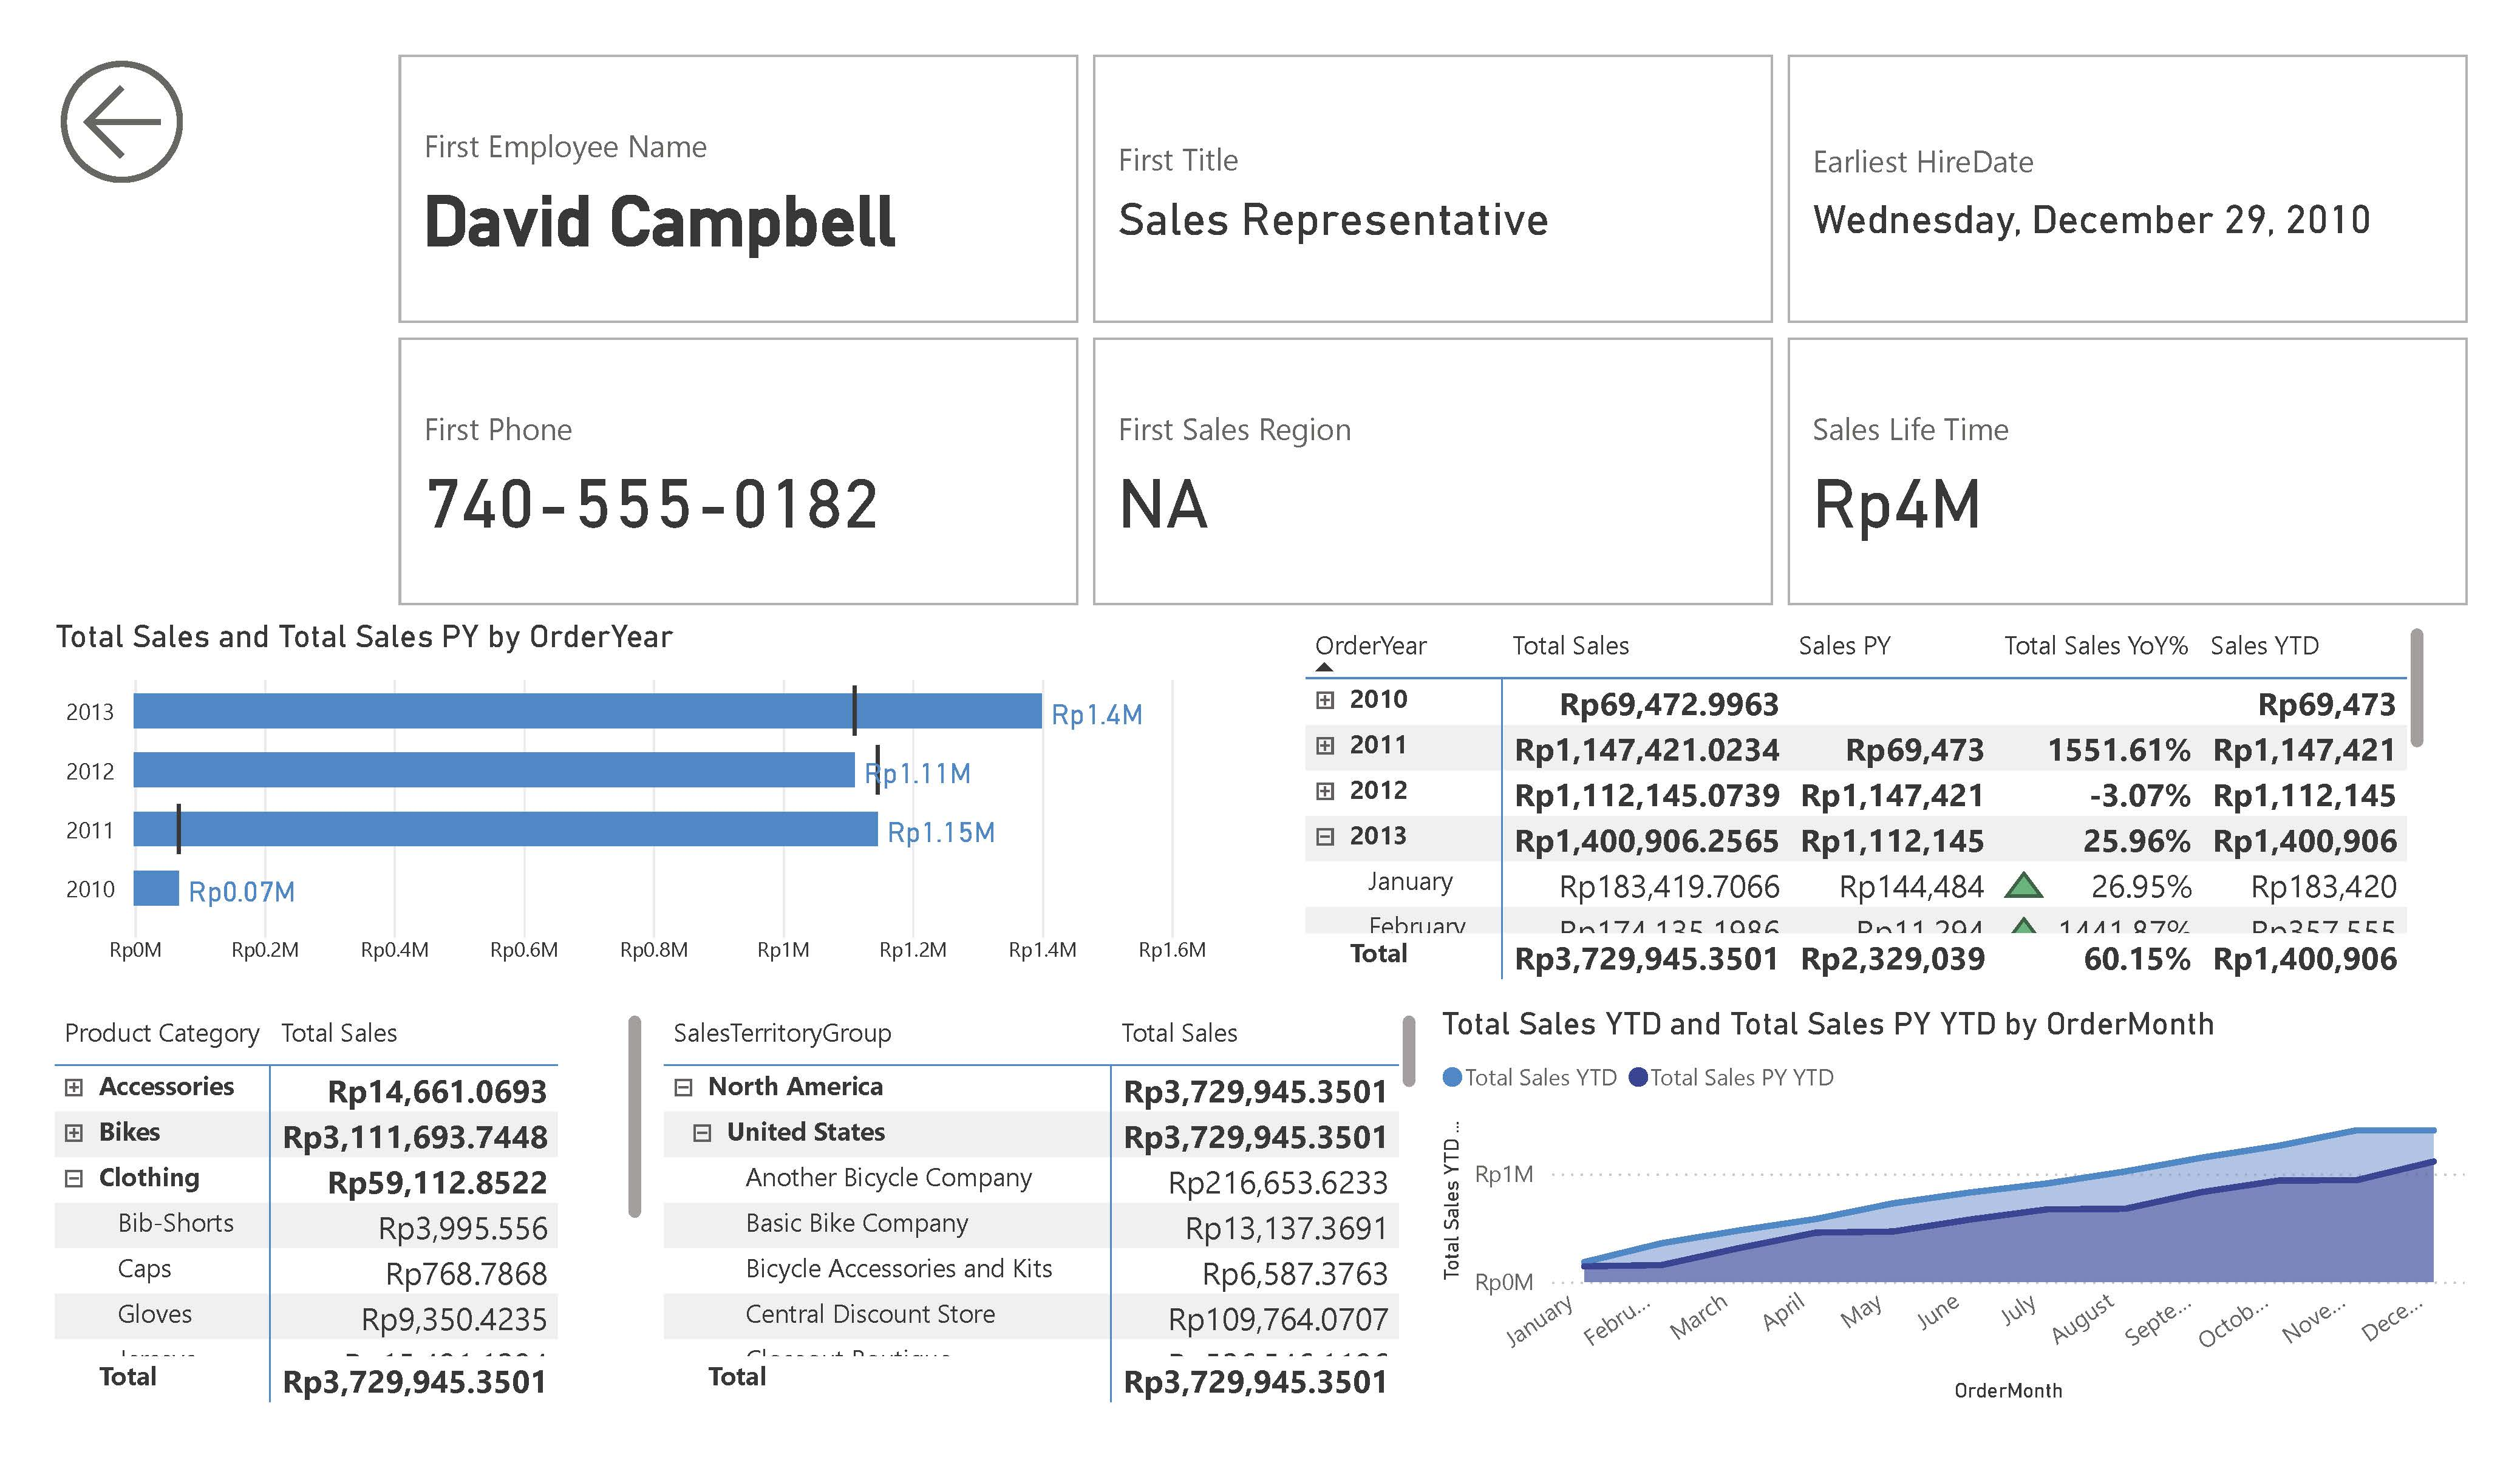

Layout of this report page (visuals, bound fields, positions):
{"tool":"powerbi","page":{"name":"Drill Trough","canvas":[1280,720],"ordinal":2},"visuals":[{"type":"actionButton","box":[0,0,80.5,80.5],"z":0},{"type":"cardVisual","fields":{"Data":["Min(DimEmployee.Employee Name)","Min(DimEmployee.Title)","Min(DimEmployee.HireDate)","Min(DimEmployee.Phone)","Min(DimEmployee.Sales Region)","_Measure.Sales Life Time"]},"box":[180.7,0,1100,300.7],"z":1000},{"type":"PBI_CV_9272D058_BEA0_476A_B090_A712545F92FA","fields":{"Category":["OrderDate.OrderYear"],"Value":["_Measure.Total Sales"],"targets":["_Measure.Total Sales PY"]},"box":[0,300.7,640.9,196.2],"z":2000},{"type":"pivotTable","fields":{"Rows":["OrderDate.OrderYear","OrderDate.OrderMonth"],"Values":["_Measure.Total Sales","_Measure.Total Sales PY","_Measure.Total Sales YoY%","_Measure.Total Sales YTD"]},"box":[659.3,300.7,600,196.2],"z":3000},{"type":"areaChart","fields":{"Category":["OrderDate.OrderMonth"],"Y":["_Measure.Total Sales YTD","_Measure.Total Sales PY YTD"]},"box":[731.3,505.4,549.2,214.6],"z":4000},{"type":"pivotTable","fields":{"Rows":["DimProduct.Product Category","DimProduct.Product Subcategory"],"Values":["_Measure.Total Sales"]},"box":[0,505.4,320.5,214.6],"z":5000},{"type":"pivotTable","fields":{"Values":["_Measure.Total Sales"],"Rows":["DimSalesTerritory.SalesTerritoryGroup","DimSalesTerritory.SalesTerritoryCountry","DimReseller.ResellerName"]},"box":[320.5,505.4,406.6,214.6],"z":6000}]}

Visuals, with their boxes on the page's 1280x720 design canvas (x1, y1, x2, y2). These are canvas units, not pixel positions in the 2520x1457 screenshot, which may show the page scaled, cropped or inside an application window:
actionButton: crop(0, 0, 80, 80)
cardVisual - Min(DimEmployee.Employee Name) x Min(DimEmployee.Title): crop(181, 0, 1281, 301)
PBI_CV_9272D058_BEA0_476A_B090_A712545F92FA - OrderDate.OrderYear x _Measure.Total Sales: crop(0, 301, 641, 497)
pivotTable - OrderDate.OrderYear x OrderDate.OrderMonth: crop(659, 301, 1259, 497)
areaChart - OrderDate.OrderMonth x _Measure.Total Sales YTD: crop(731, 505, 1280, 720)
pivotTable - DimProduct.Product Category x DimProduct.Product Subcategory: crop(0, 505, 320, 720)
pivotTable - _Measure.Total Sales x DimSalesTerritory.SalesTerritoryGroup: crop(320, 505, 727, 720)
